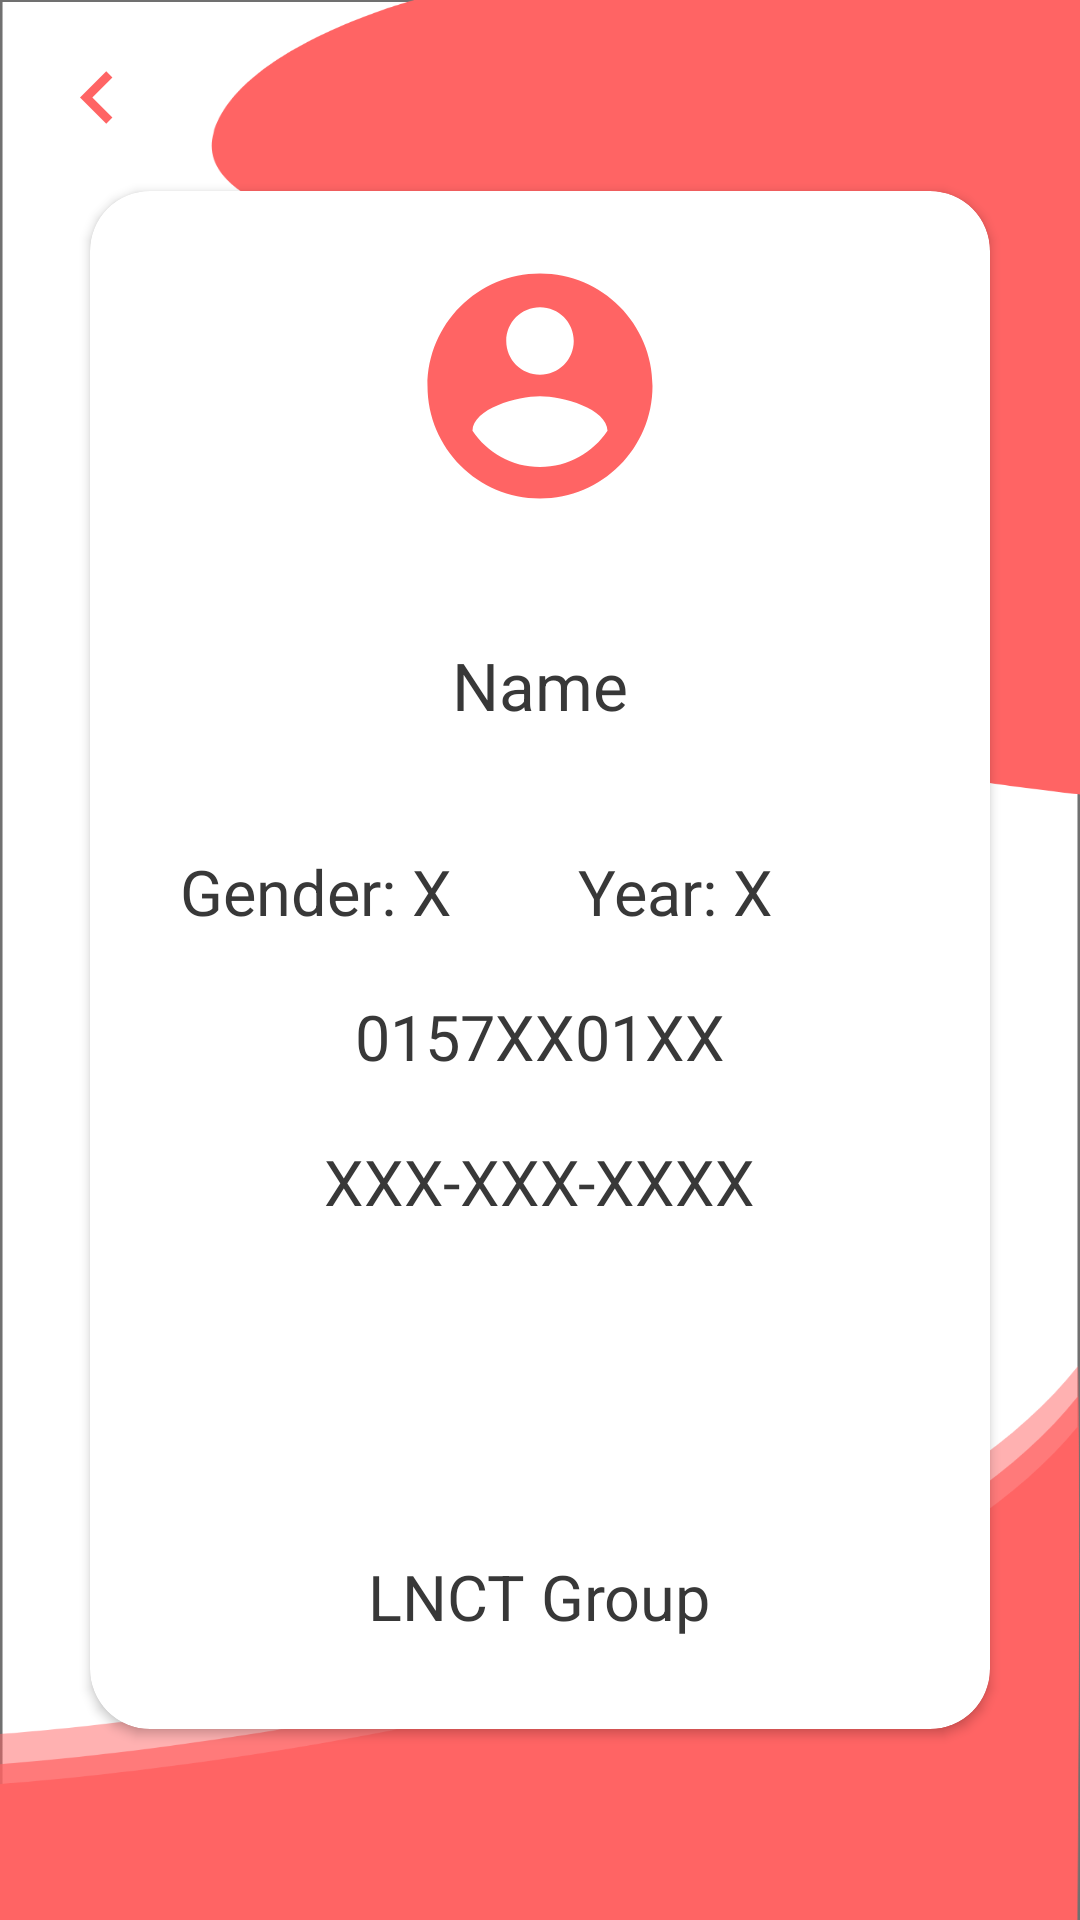

Icon bounding boxes for this 1080 × 1920 phone screenshot, format (x1, y1, x2, y2):
account circle: (427, 273, 653, 499)
arrow left: (80, 71, 112, 124)
